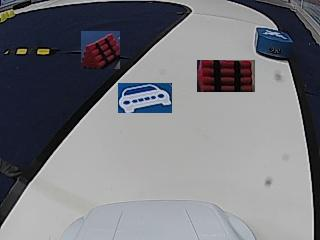prop: (255, 27, 292, 61)
